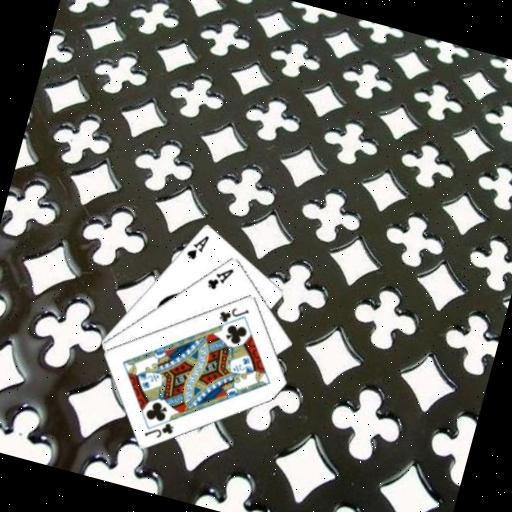AC: (203, 259, 237, 294)
AS: (182, 227, 211, 263)
JC: (214, 299, 251, 330), (140, 413, 177, 444)
